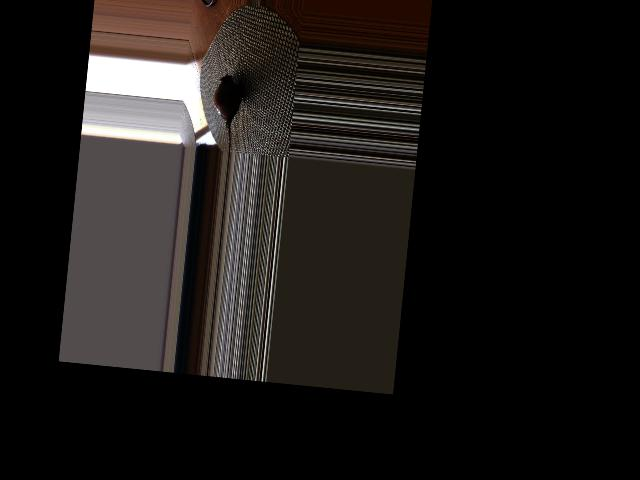beet: (208, 73, 243, 152)
